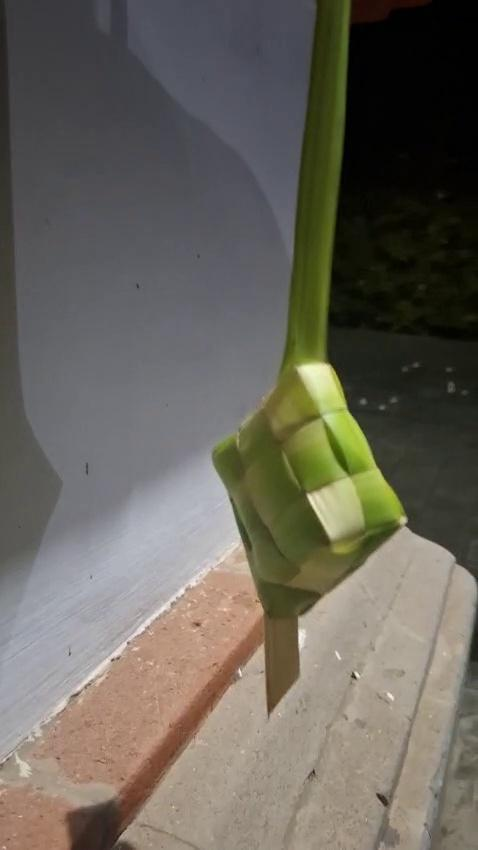Tipat Nasi: (207, 358, 404, 727)
